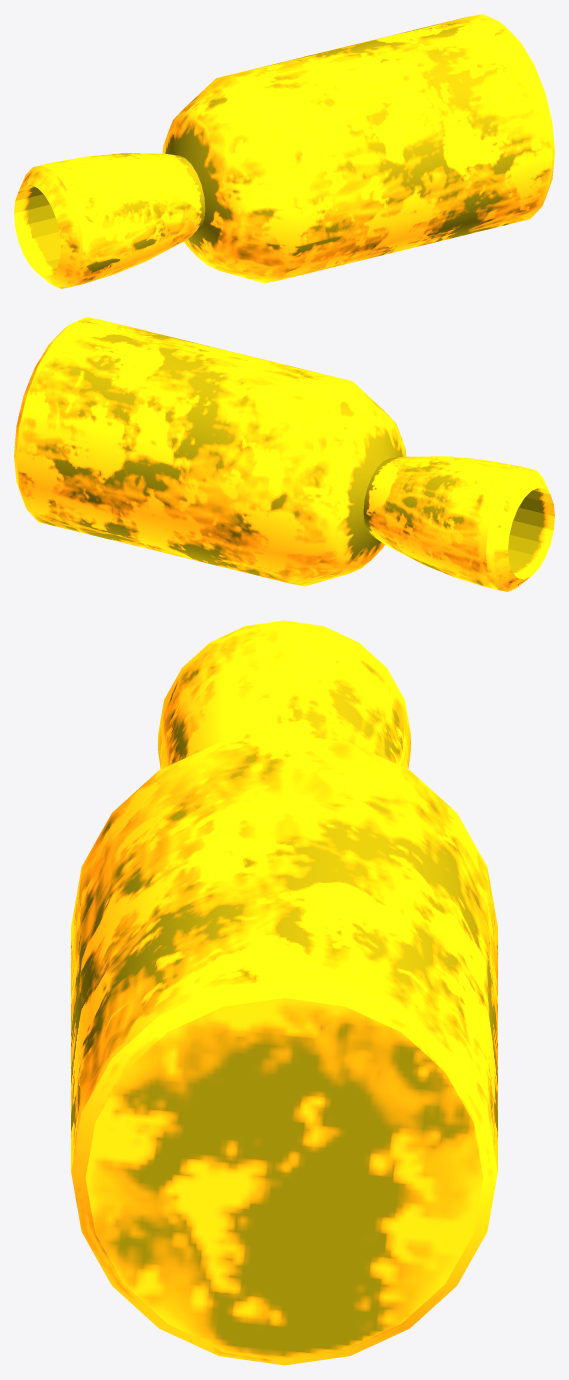
Rendered from estus.glb.
3 views of the same model, one above another, from view 1: azimuth 30°, elevation 25°; view 2: azimuth 150°, elevation 25°; view 3: azimuth 270°, elevation 25° (orthographic). The views are drawn at different scales.
Visible parts, largest first — view 1: estus_low; view 2: estus_low; view 3: estus_low.
Boxes of the visible parts, bbox=[...] form: estus_low: bbox=[14, 14, 554, 288]; estus_low: bbox=[14, 317, 554, 591]; estus_low: bbox=[71, 620, 497, 1365].
Size of the model in its own units: 0.0506 by 0.02 by 0.02.
Materials: 1 (1 with a texture image).
